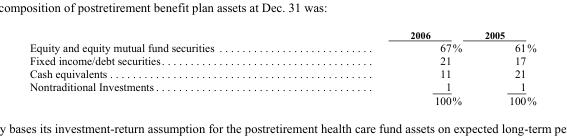table: (28, 28, 535, 105)
table column: (28, 28, 311, 105), (311, 28, 472, 105), (472, 28, 535, 105)
table column header: (28, 28, 535, 40)
table row: (28, 40, 535, 53), (28, 53, 535, 66), (28, 66, 535, 79), (28, 79, 535, 92), (28, 92, 535, 105), (28, 28, 535, 40)
